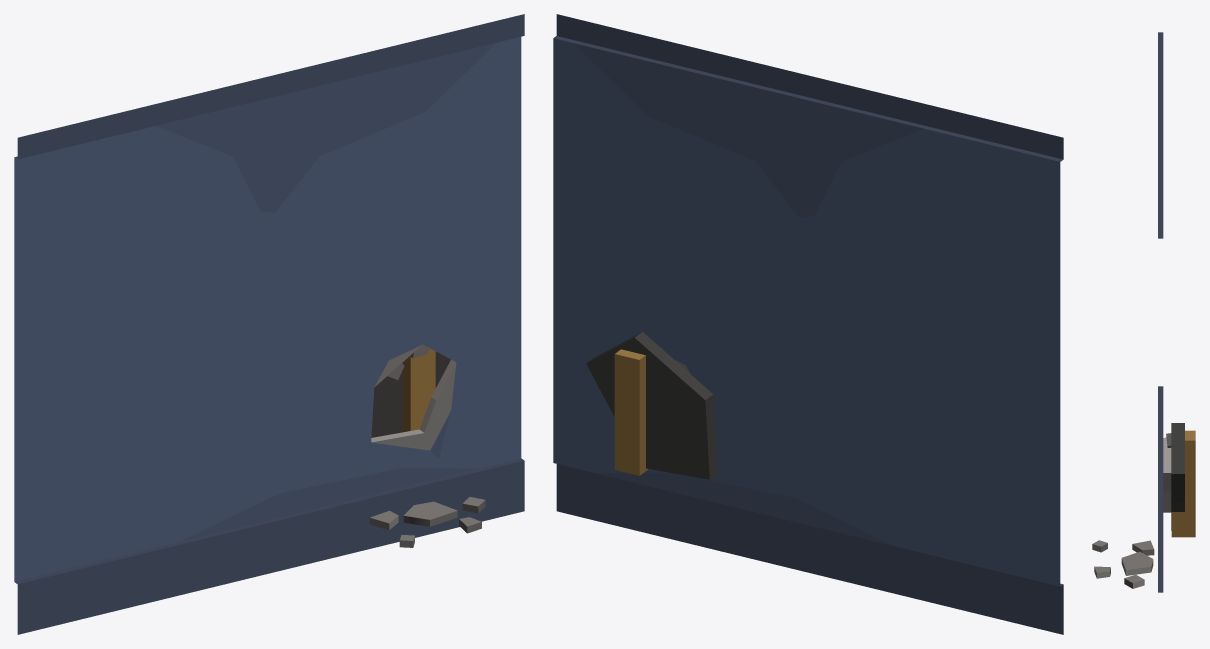
Rendered from AI_Env_Wall_Blue_Hole_Small.fbx.
3 renders of one model, left to right at view 1: azimuth 30°, elevation 25°; view 2: azimuth 150°, elevation 25°; view 3: azimuth 270°, elevation 25°, orthographic. The views are drawn at different scales.
Parts seen in each view (by area): view 1: AI_Env_Wall_Blue_Hole_Small; view 2: AI_Env_Wall_Blue_Hole_Small; view 3: AI_Env_Wall_Blue_Hole_Small.
Part boxes in pixels (x1,y1,x2,y2): AI_Env_Wall_Blue_Hole_Small: [14, 14, 524, 634]; AI_Env_Wall_Blue_Hole_Small: [553, 14, 1063, 634]; AI_Env_Wall_Blue_Hole_Small: [1092, 32, 1195, 592].
Size of the model in its own units: 5 by 4.69 by 1.06.
